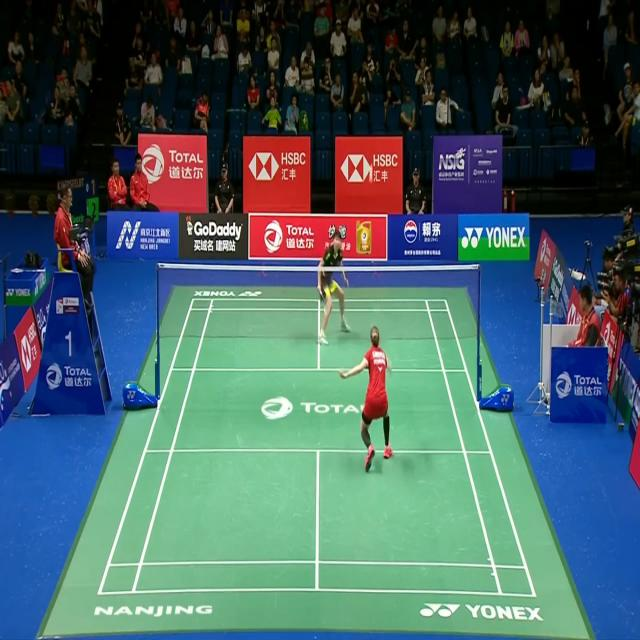Player1: (336, 324, 397, 476)
Player2: (315, 229, 353, 351)
